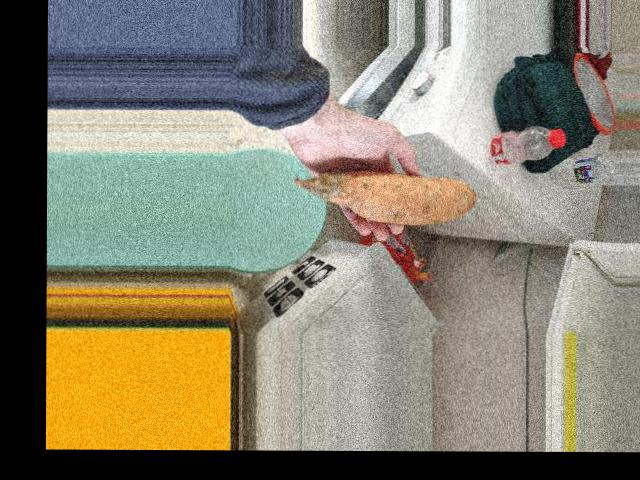sweet_potato: (304, 167, 461, 214)
